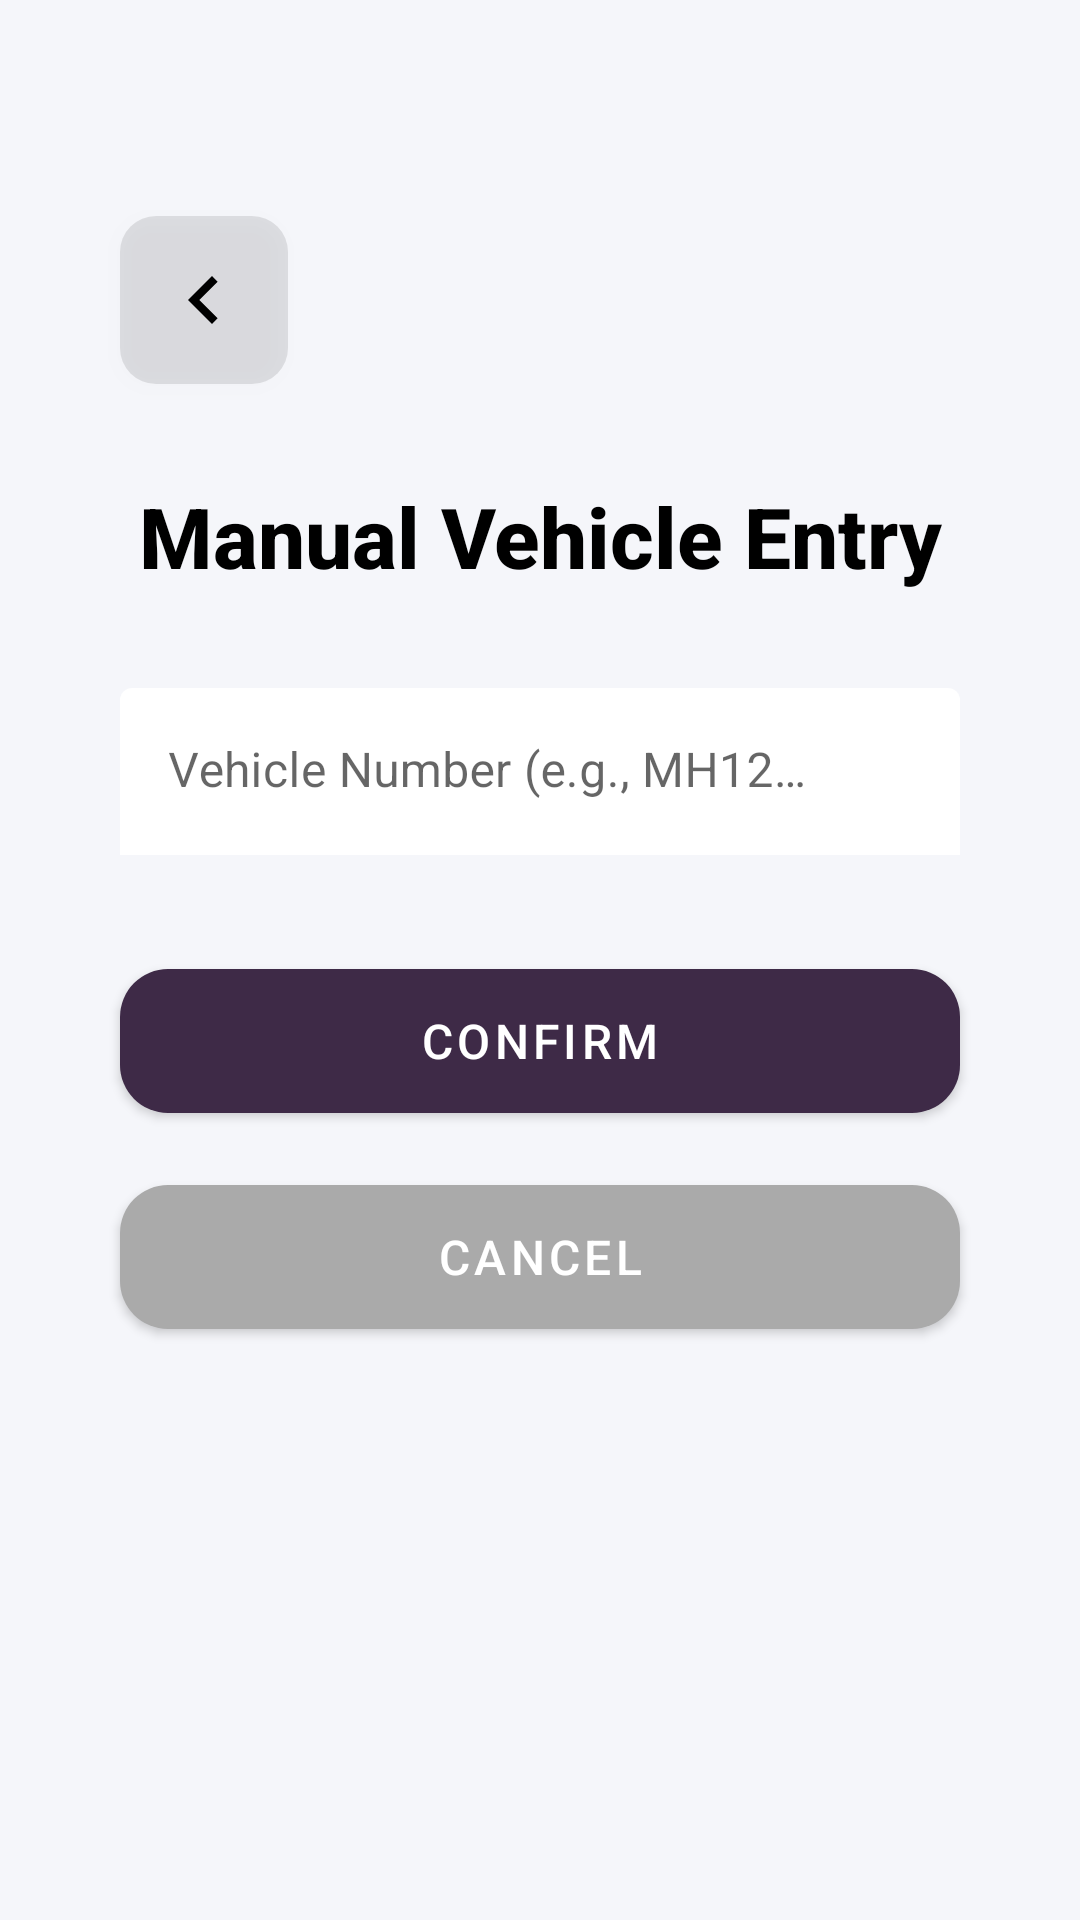

Point at icon controls on the screen. Image size 1080px x 1920px, points as (x=x, y=y).
Back: (x=204, y=300)
